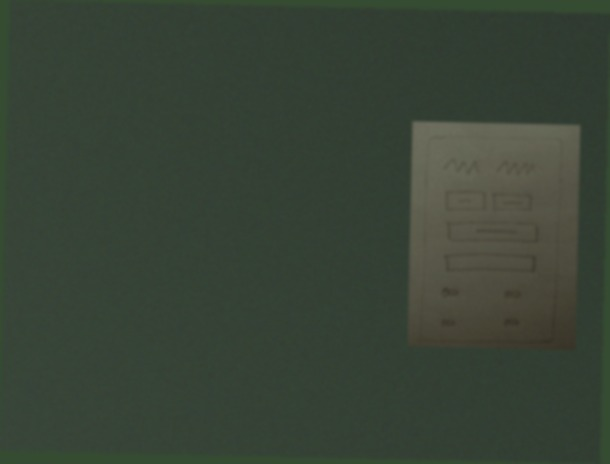button: (442, 219, 544, 245), (441, 188, 490, 214), (491, 190, 535, 213)
switch: (498, 315, 532, 330), (499, 286, 526, 303), (438, 283, 462, 301), (435, 316, 463, 330)
text: (494, 157, 540, 180), (440, 155, 484, 176)
text_input: (443, 250, 540, 275)
